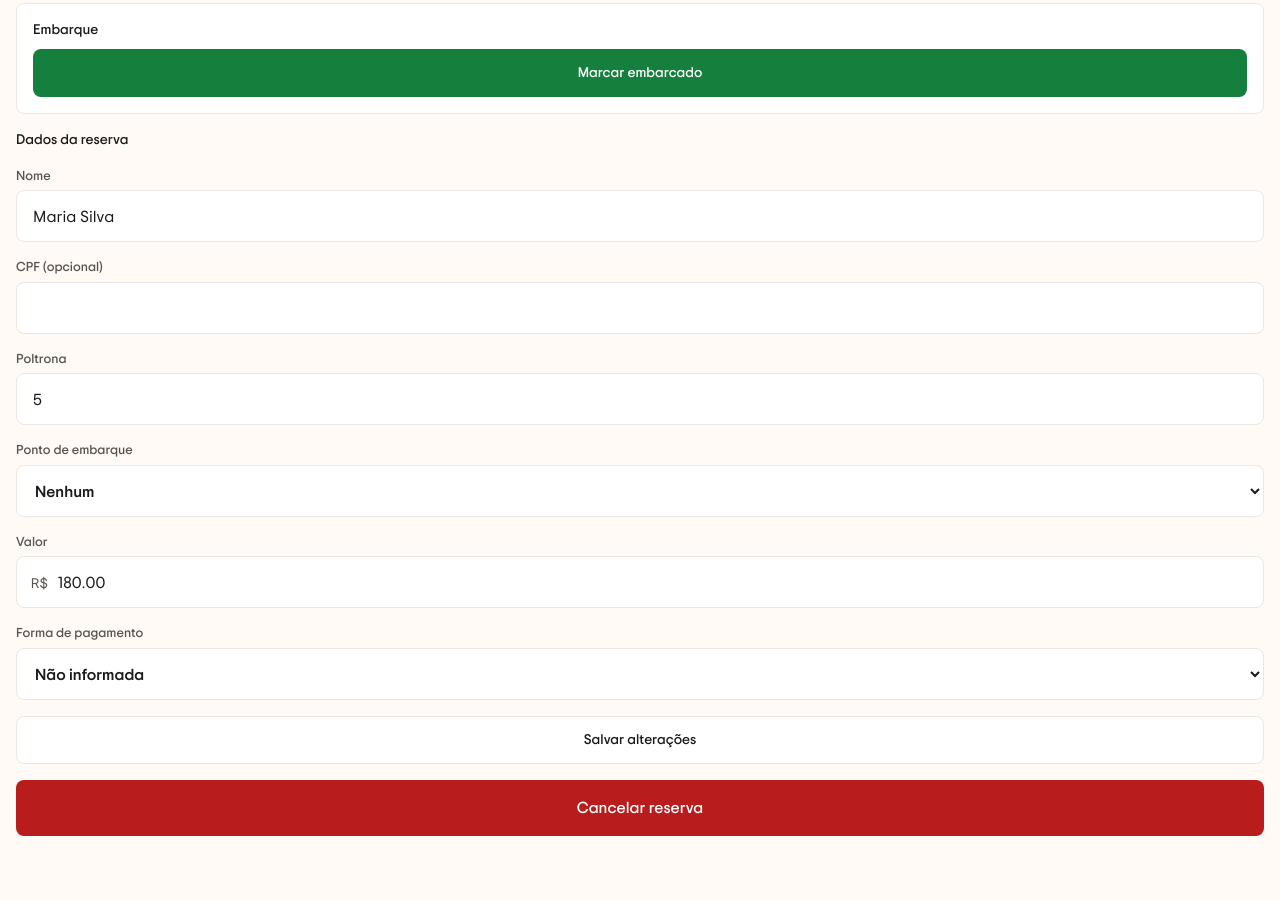
ReservaDetalhePage › cancela a reserva com sinal pago e mostra a pendência de estorno
(page scrolled)
Click the button "Cancelar reserva". click: (640, 808)
box: x1=16 y1=780 x2=1264 y2=836
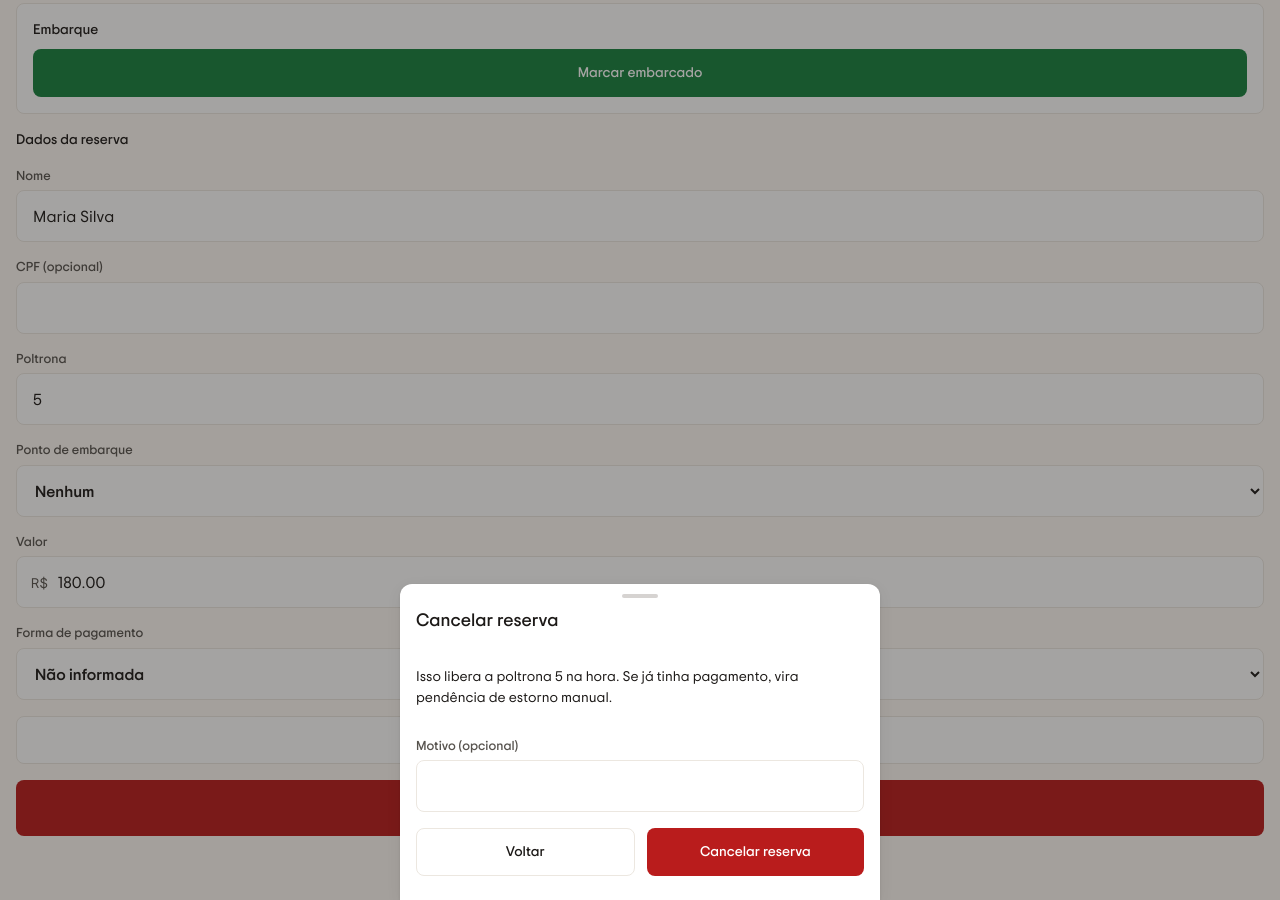
Click the button "Cancelar reserva" below "Motivo (opcional)". click: (755, 852)
box: x1=647 y1=828 x2=864 y2=876
(page scrolled)
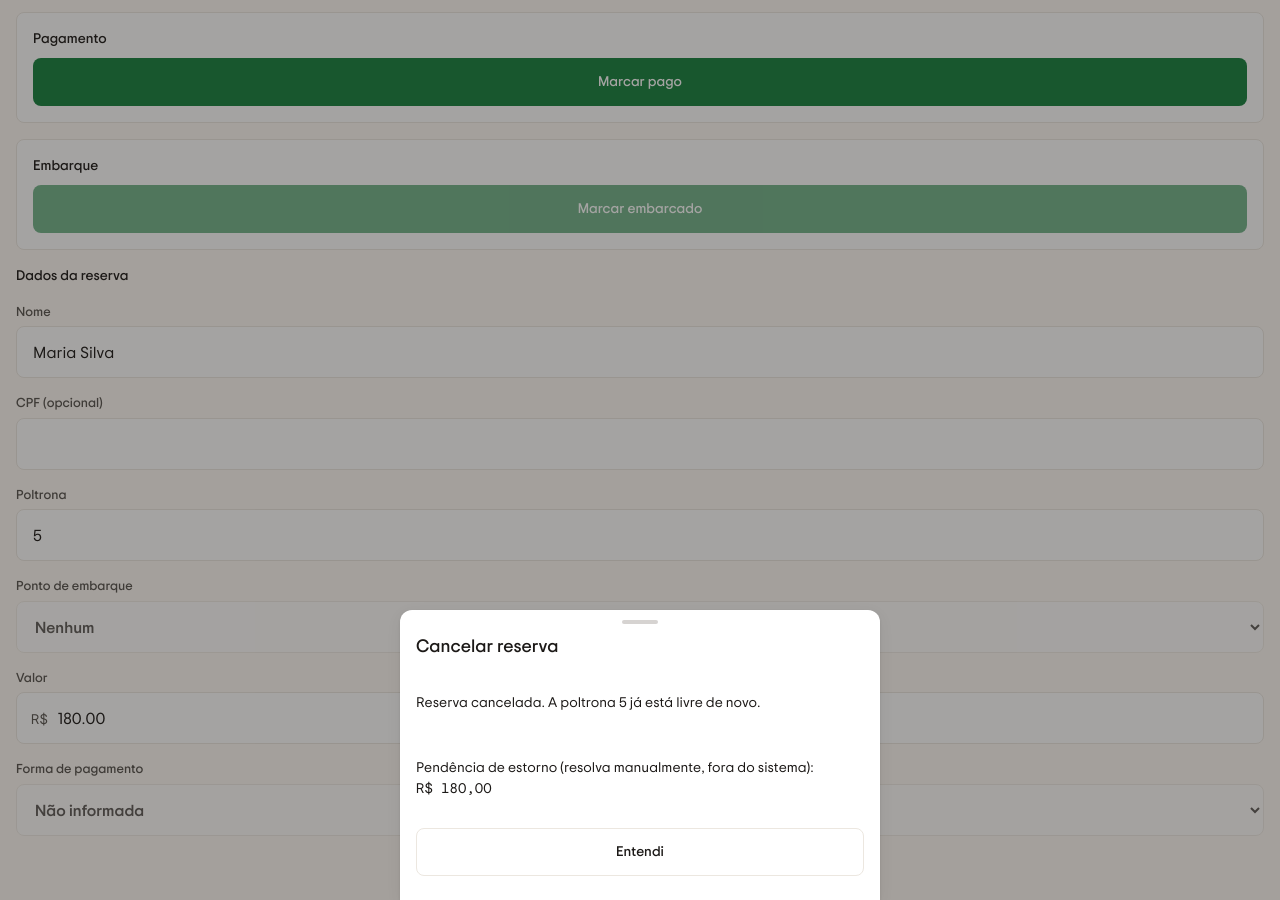
Result: the text "R$ 180,00" is shown at x1=416 y1=778 x2=492 y2=797
